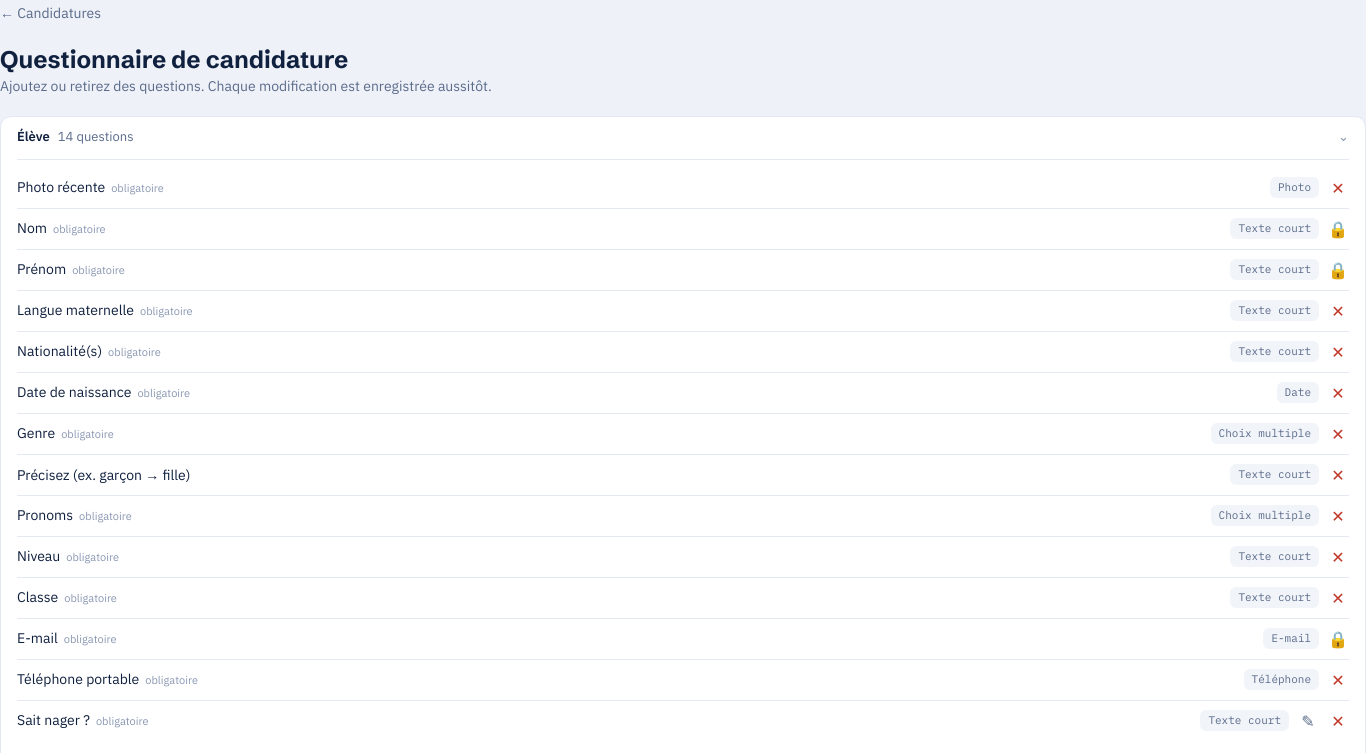
Test: QuestionnaireEditor › gives a custom question a pencil that pre-fills its current definition
The image size is (1366, 753).
Click the button named "Modifier la question — Sait nager ?". click: (1308, 720)
box: [1297,708,1319,732]
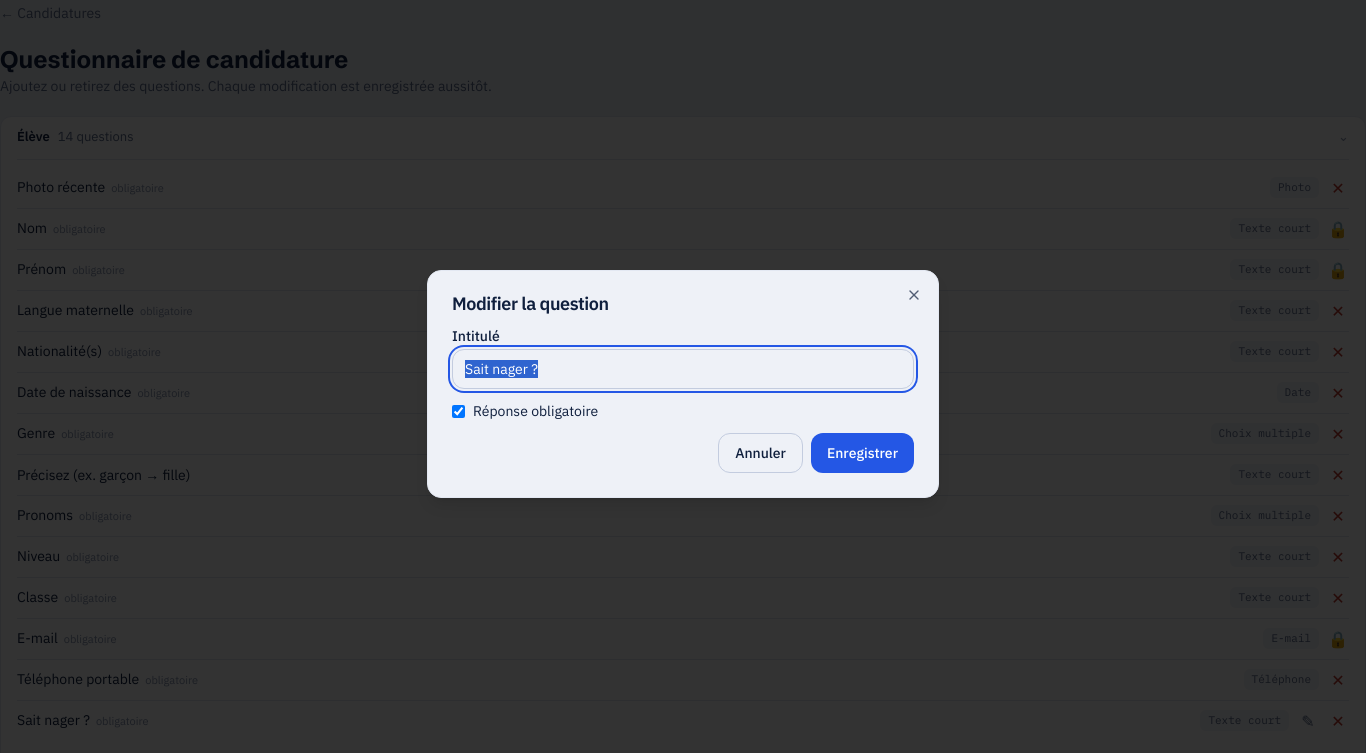
Result: the field labelled "Intitulé" holds "Sait nager ?" at [452,349,914,389]
Result: the checkbox labelled "Réponse obligatoire" is checked at [452,404,465,418]
